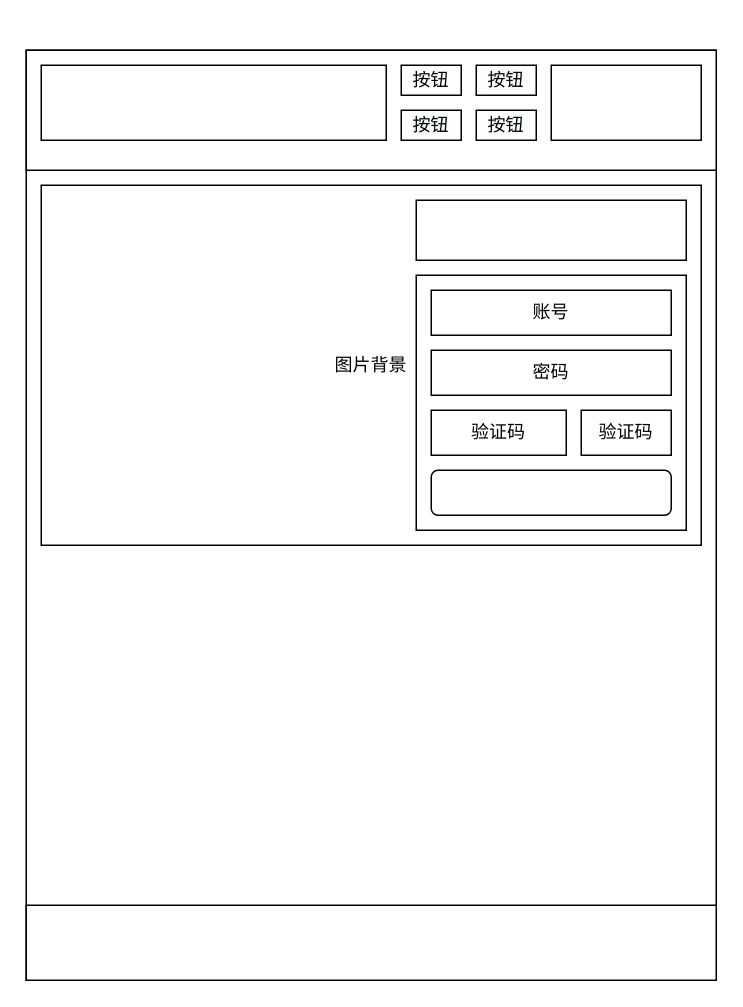
This 743x1007 diagram has some shape labels left out. The box of each missing label's shape, as (x1, y1, x2, y2) in pixels:
学生登录: (415, 199, 686, 260)
底部导航栏&联系发邮件: (25, 904, 716, 980)
当前登录学生信息显示（跳转主页）: (550, 64, 701, 140)
登录: (430, 469, 671, 515)
网站标题（文字+图片）: (40, 64, 386, 140)
